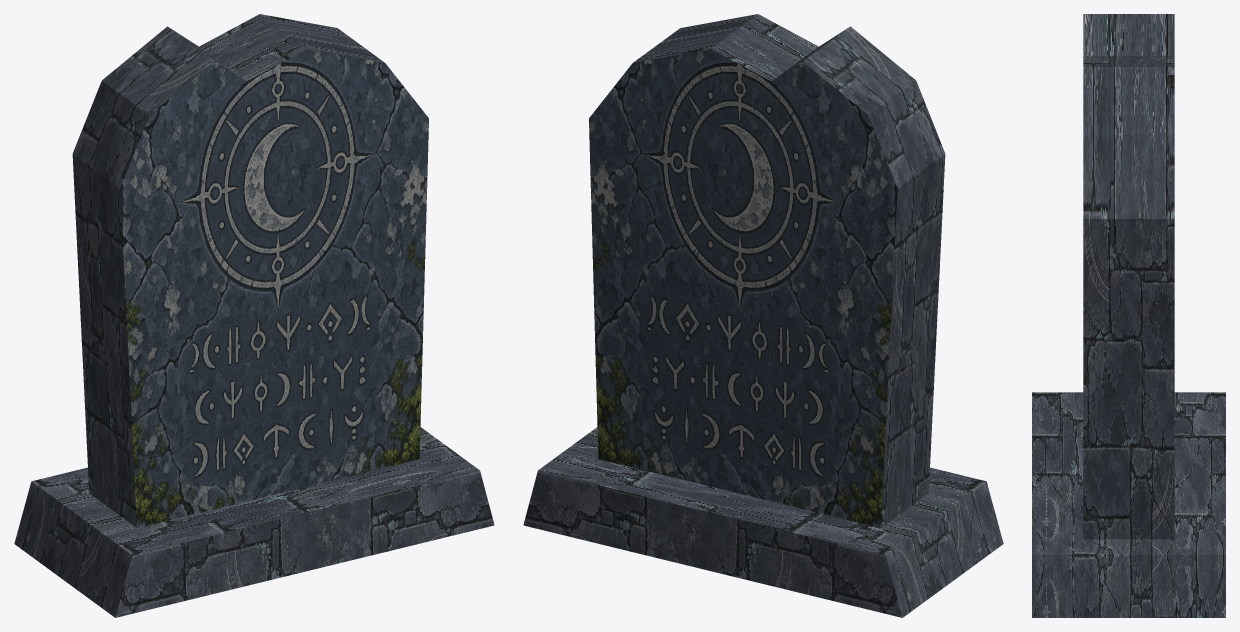
The model's file is moon_tablet.glb.
3 views of the same model, side by side, from view 1: azimuth 30°, elevation 25°; view 2: azimuth 150°, elevation 25°; view 3: azimuth 270°, elevation 25° (orthographic). The views are drawn at different scales.
Visible parts, largest first — view 1: TabletStone, TabletFoot; view 2: TabletStone, TabletFoot; view 3: TabletStone, TabletFoot.
Part boxes in pixels (x1,y1,x2,y2): TabletStone: (72,14,428,527); TabletFoot: (14,427,494,617); TabletStone: (589,14,945,527); TabletFoot: (523,427,1003,617); TabletStone: (1083,14,1174,539); TabletFoot: (1032,392,1225,617).
Bounding box in the file's own units: 1.56 × 1.99 × 0.72.
Materials: 2 (2 with a texture image).
